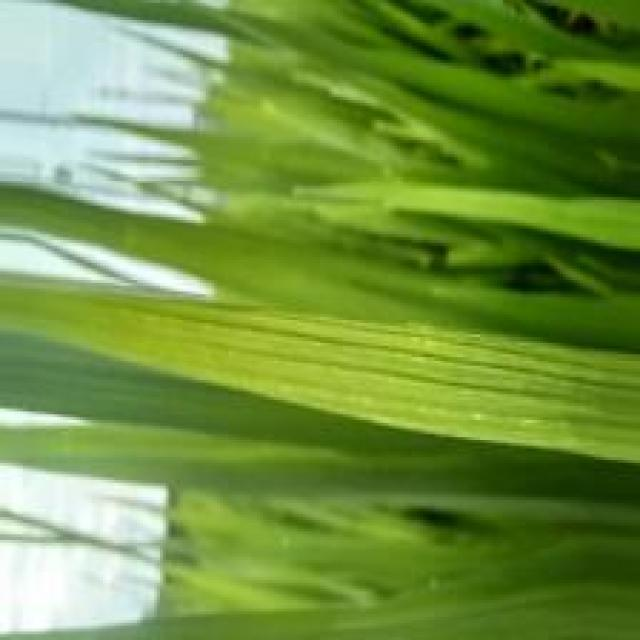HealthyLeaf: (270, 315, 638, 459)
